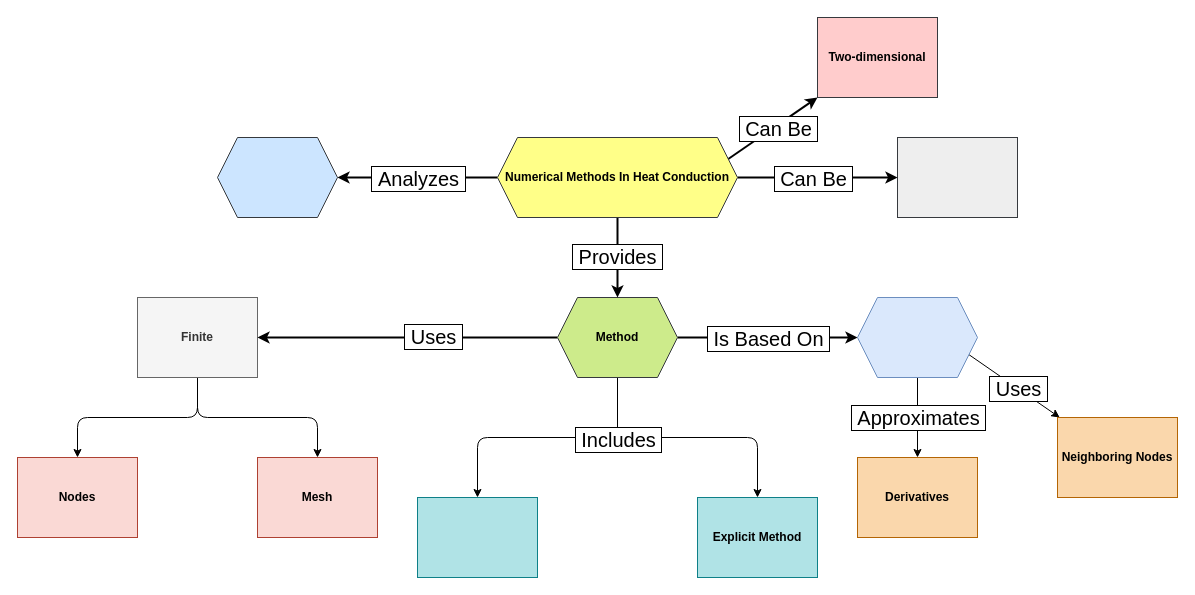
Image size: 1195x595. Some labels were removed from this diagram. Each missing label, with the centre of its shape:
"Conduction" belongs at point 277,177.
"Difference" belongs at point 917,337.
"Implicit Method" belongs at point 477,537.
"Transient" belongs at point 957,177.
